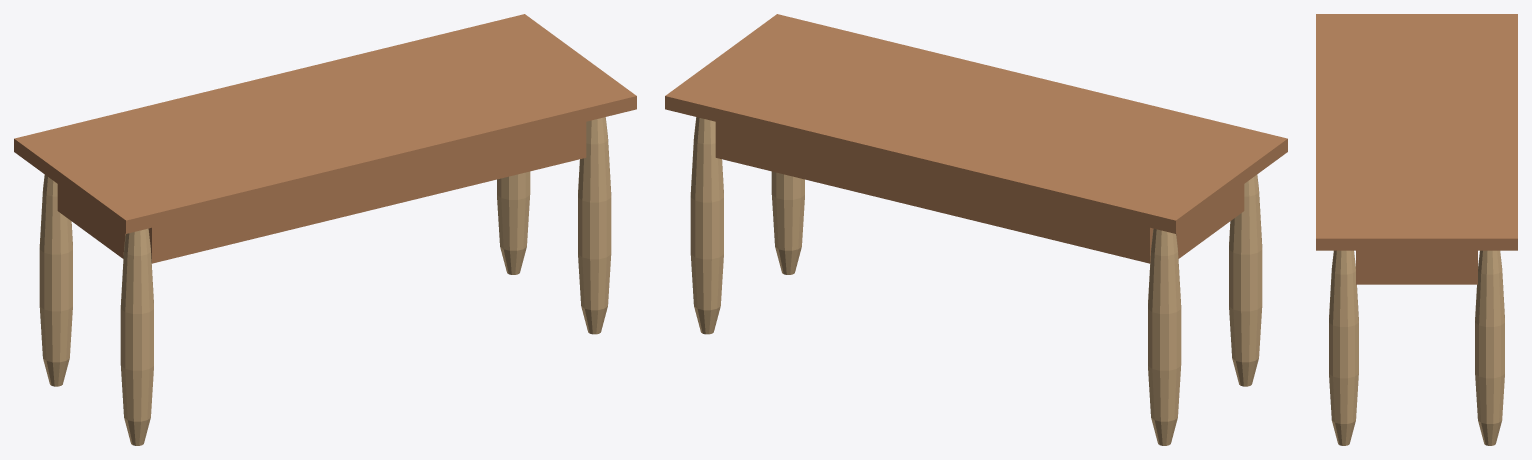
The model's file is CAL-EBN-std.glb.
3 renders of one model, left to right at view 1: azimuth 30°, elevation 25°; view 2: azimuth 150°, elevation 25°; view 3: azimuth 270°, elevation 25°, orthographic. The views are drawn at different scales.
Visible parts, largest first — view 1: top:pbr, apron-f:pbr, leg-fl:pbr, leg-fr:pbr, leg-bl:pbr, leg-br:pbr, apron-l:pbr; view 2: top:pbr, apron-b:pbr, leg-bl:pbr, leg-br:pbr, leg-fl:pbr, leg-fr:pbr, apron-l:pbr; view 3: top:pbr, leg-fr:pbr, leg-br:pbr, apron-r:pbr.
Part boxes in pixels (x1=…): top:pbr: x1=14, y1=14, x2=636, y2=233; apron-f:pbr: x1=148, y1=122, x2=586, y2=263; leg-fl:pbr: x1=120, y1=228, x2=153, y2=445; leg-fr:pbr: x1=578, y1=117, x2=611, y2=334; leg-bl:pbr: x1=39, y1=174, x2=72, y2=386; leg-br:pbr: x1=497, y1=171, x2=530, y2=274; apron-l:pbr: x1=57, y1=184, x2=125, y2=258; top:pbr: x1=665, y1=14, x2=1287, y2=233; apron-b:pbr: x1=715, y1=122, x2=1153, y2=263; leg-bl:pbr: x1=1148, y1=228, x2=1181, y2=445; leg-br:pbr: x1=690, y1=117, x2=723, y2=334; leg-fl:pbr: x1=1229, y1=174, x2=1262, y2=386; leg-fr:pbr: x1=771, y1=171, x2=804, y2=274; apron-l:pbr: x1=1176, y1=184, x2=1244, y2=258; top:pbr: x1=1316, y1=14, x2=1517, y2=250; leg-fr:pbr: x1=1329, y1=250, x2=1358, y2=445; leg-br:pbr: x1=1475, y1=250, x2=1504, y2=445; apron-r:pbr: x1=1356, y1=250, x2=1477, y2=284.
Size of the model in its own units: 1 by 0.45 by 0.38.
